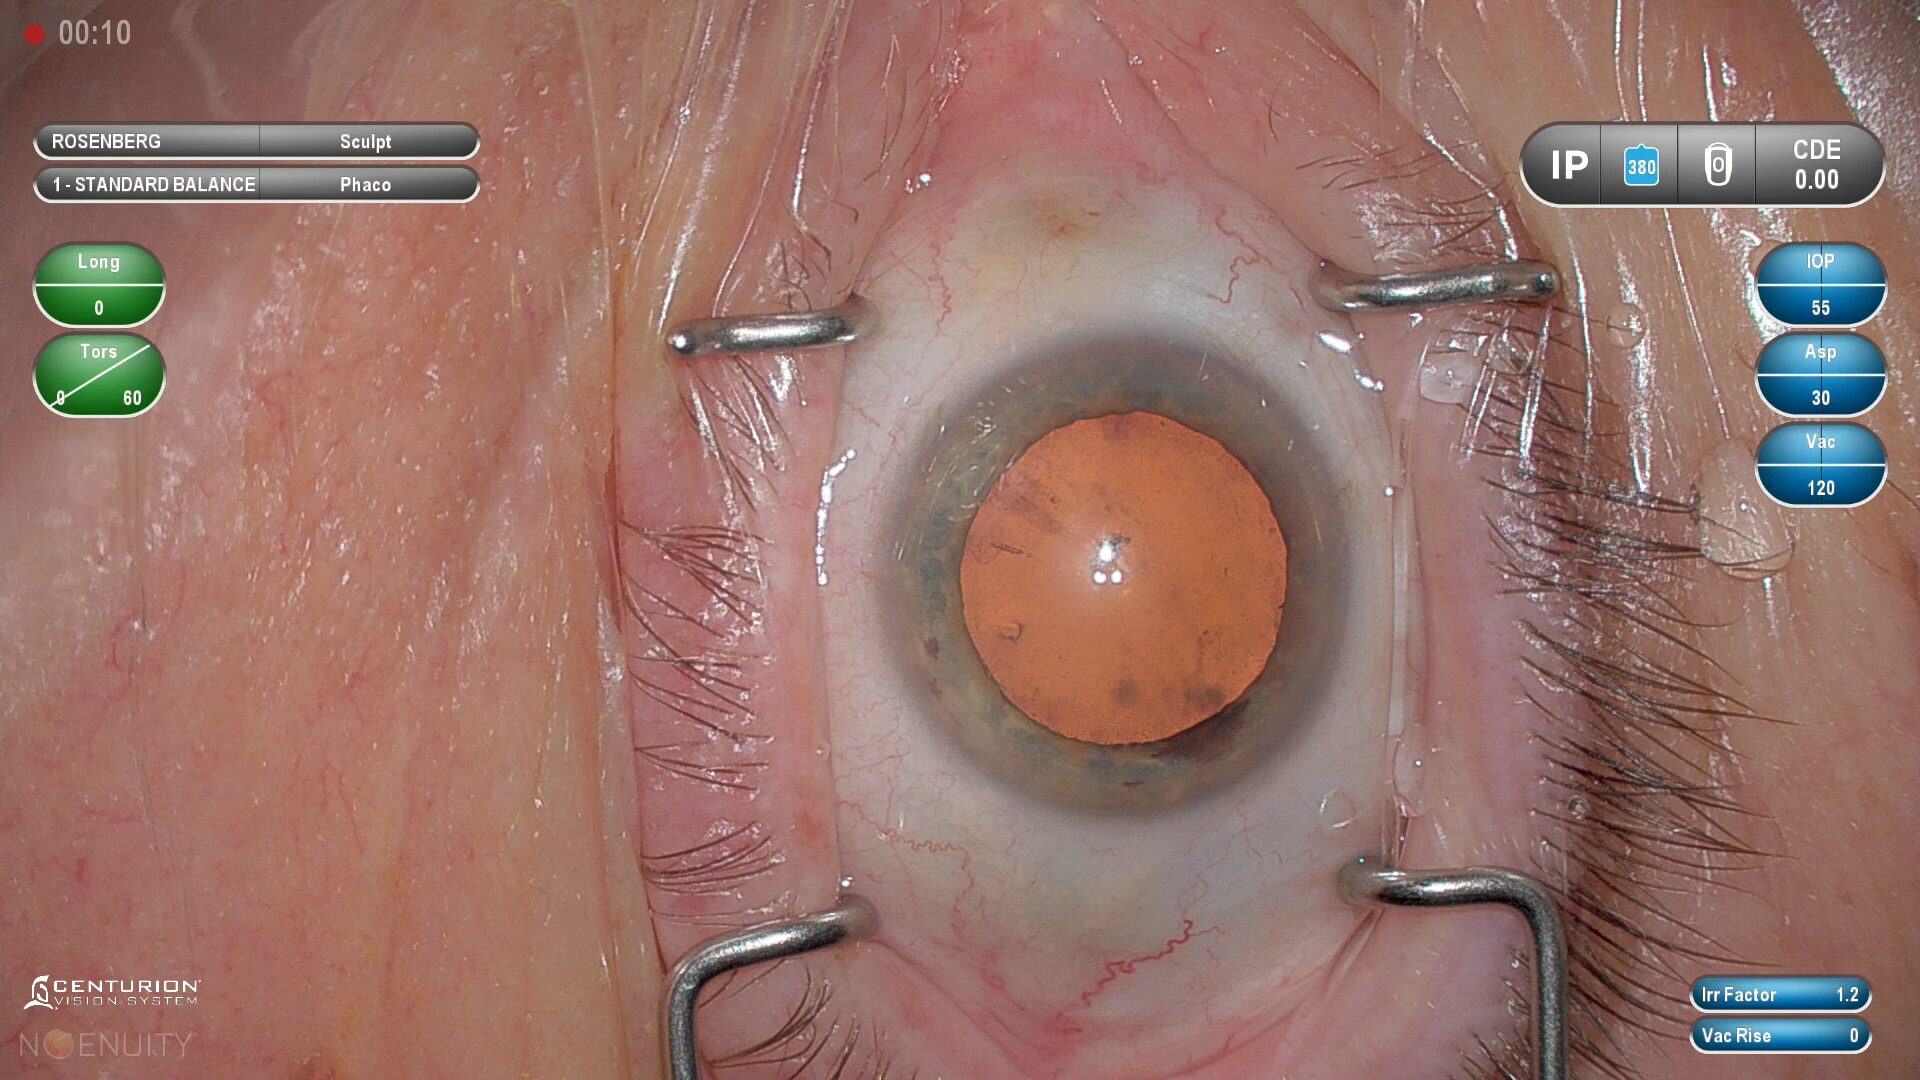iris: (888, 339, 1359, 814)
pupil: (954, 409, 1296, 748)
